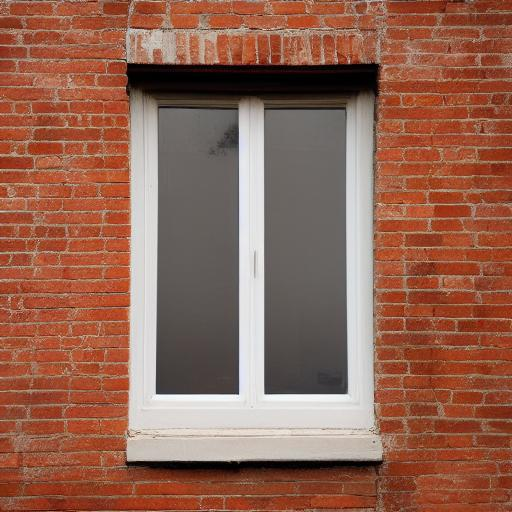Window: (123, 29, 387, 466)
